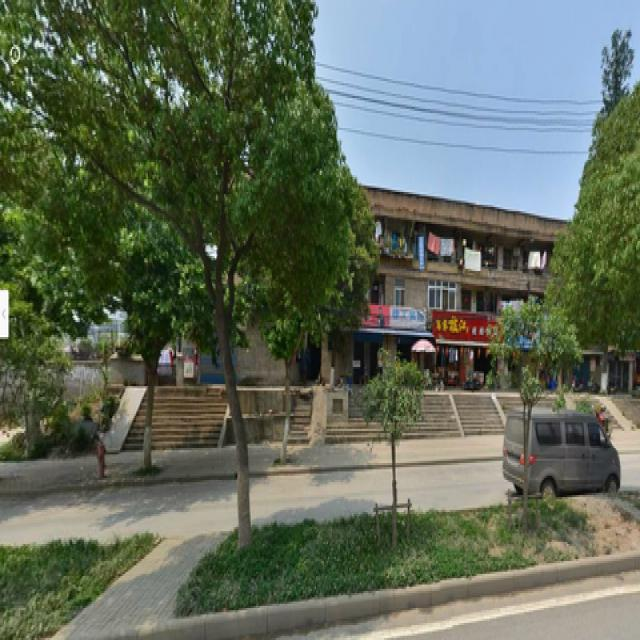cinn: (67, 13, 277, 548)
